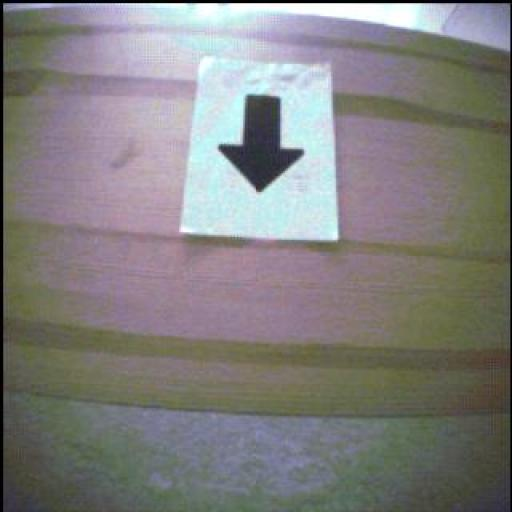Arrow: (220, 95, 305, 193)
